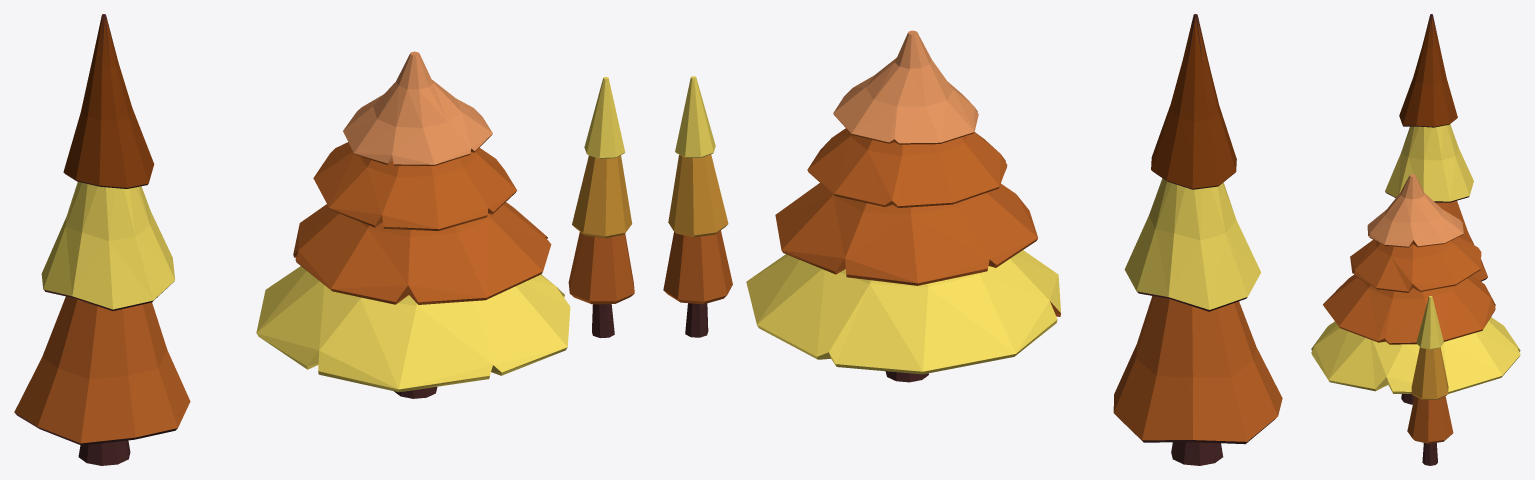
Rendered from trees (1).obj.
The picture shows the model from 3 angles, left to right: view 1: azimuth 30°, elevation 25°; view 2: azimuth 150°, elevation 25°; view 3: azimuth 270°, elevation 25°; orthographic projection. The views are drawn at different scales.
Parts seen in each view (by area): view 1: Tree_3_Cylinder, pinelower, top, middle, top3, toppp, pinelower2, pinemiddle2, Tree_4_Cylinder_001, toppine2, Tree_2_Cylinder_007; view 2: Tree_3_Cylinder, pinelower, top, middle, top3, toppp, pinelower2, pinemiddle2, toppine2, Tree_4_Cylinder_001, Tree_2_Cylinder_007; view 3: Tree_3_Cylinder, pinelower, middle, top3, toppp, pinelower2, pinemiddle2, toppine2, top, Tree_2_Cylinder_007, Tree_4_Cylinder_001.
Part boxes in pixels (x1,y1,x2,y2): Tree_3_Cylinder: (293, 134, 551, 304); pinelower: (256, 266, 570, 392); top: (14, 296, 190, 443); middle: (41, 182, 175, 309); top3: (343, 51, 492, 164); toppp: (63, 15, 154, 187); pinelower2: (568, 232, 634, 304); pinemiddle2: (572, 155, 632, 238); Tree_4_Cylinder_001: (15, 14, 177, 465); toppine2: (584, 77, 625, 158); Tree_2_Cylinder_007: (592, 304, 614, 337); Tree_3_Cylinder: (775, 108, 1060, 316); pinelower: (746, 250, 1060, 374); top: (1113, 296, 1282, 441); middle: (1124, 178, 1260, 309); top3: (833, 30, 978, 143); toppp: (1151, 15, 1236, 188); pinelower2: (663, 230, 732, 304); pinemiddle2: (668, 154, 728, 237); toppine2: (675, 76, 715, 157); Tree_4_Cylinder_001: (1118, 14, 1275, 465); Tree_2_Cylinder_007: (685, 303, 708, 337); Tree_3_Cylinder: (1323, 234, 1495, 344); pinelower: (1311, 317, 1520, 393); middle: (1385, 124, 1473, 201); top3: (1367, 174, 1463, 246); toppp: (1399, 16, 1457, 126); pinelower2: (1407, 396, 1453, 443); pinemiddle2: (1411, 347, 1448, 399); toppine2: (1416, 296, 1443, 349); top: (1436, 200, 1487, 280); Tree_2_Cylinder_007: (1422, 443, 1437, 465); Tree_4_Cylinder_001: (1385, 14, 1487, 281).
Size of the model in its own units: 8.1 by 5.65 by 3.72.
